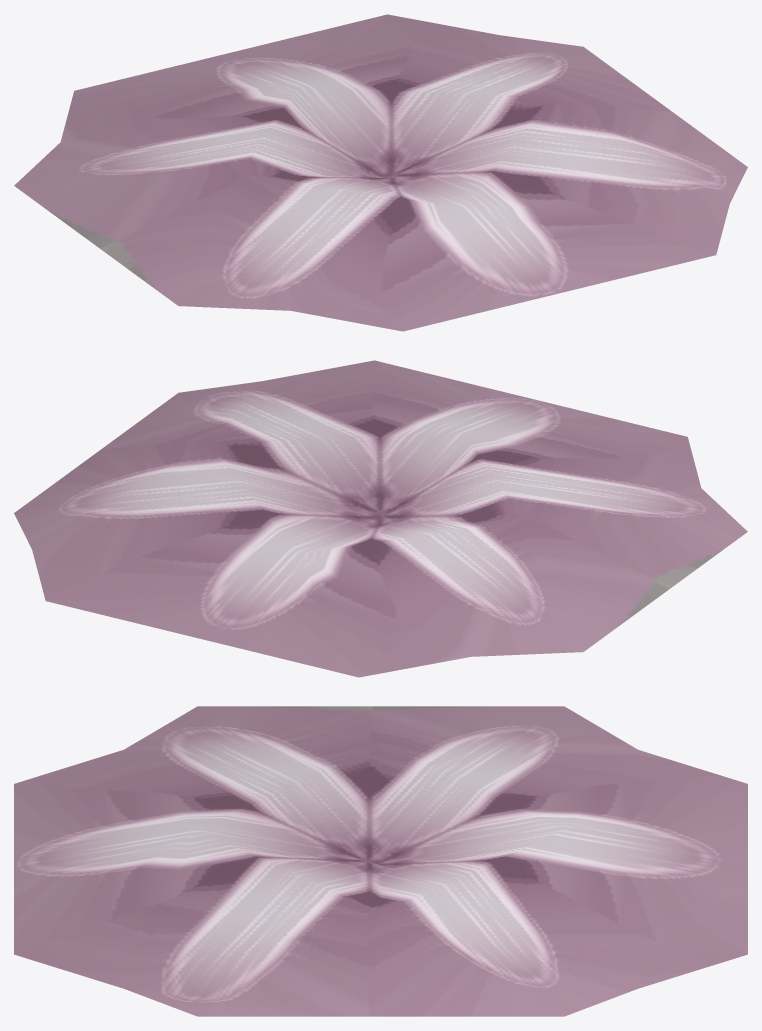
Rendered from Flower04_Art.fbx.
3 views of the same model, one above another, from view 1: azimuth 30°, elevation 25°; view 2: azimuth 150°, elevation 25°; view 3: azimuth 270°, elevation 25° (orthographic). The views are drawn at different scales.
Parts seen in each view (by area): view 1: Flower04_Art; view 2: Flower04_Art; view 3: Flower04_Art.
Part boxes in pixels (x1,y1,x2,y2): Flower04_Art: [14, 14, 747, 331]; Flower04_Art: [14, 360, 747, 677]; Flower04_Art: [14, 706, 747, 1016].
Size of the model in its own units: 0.6029 by 0.0375 by 0.6029.
